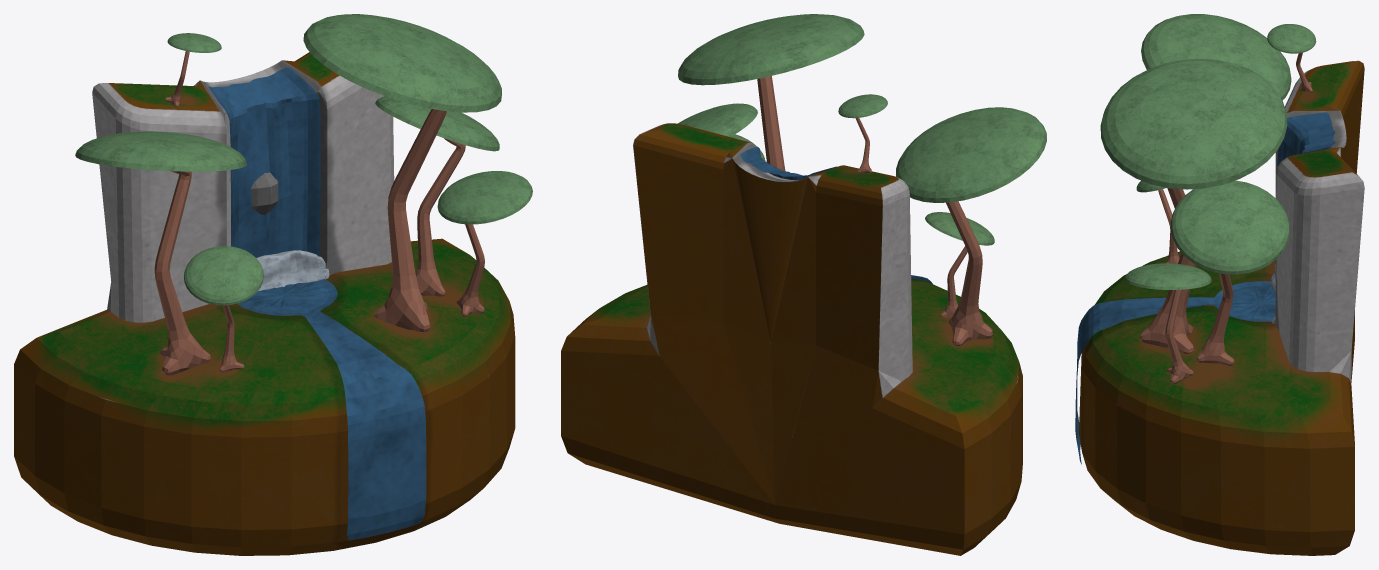
Rendered from waterfall.glb.
3 renders of one model, left to right at view 1: azimuth 30°, elevation 25°; view 2: azimuth 150°, elevation 25°; view 3: azimuth 270°, elevation 25°, orthographic. The views are drawn at different scales.
Parts seen in each view (by area): view 1: Wild; view 2: Wild; view 3: Wild.
Part boxes in pixels (<box>): Wild: <box>14,14,532,555</box>; Wild: <box>561,14,1046,555</box>; Wild: <box>1075,14,1364,555</box>.
Bounding box in the file's own units: 1110 × 1138 × 692.
Materials: 4 (4 with a texture image).
